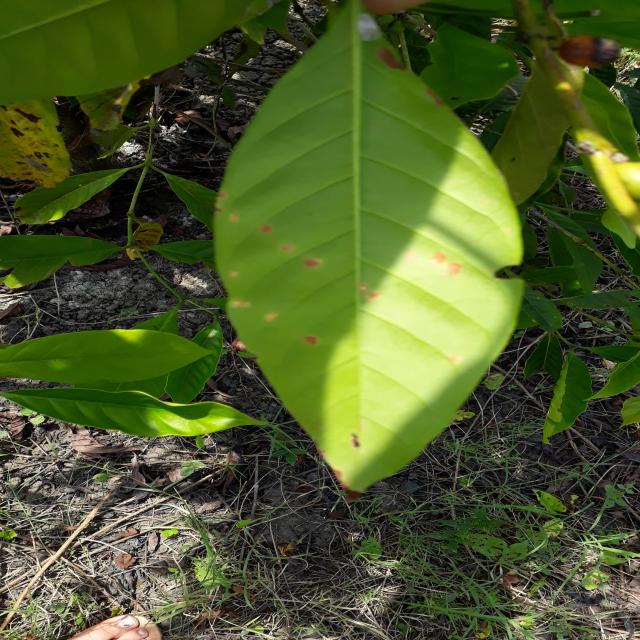Enfermedad-Roya: (210, 16, 527, 496)
